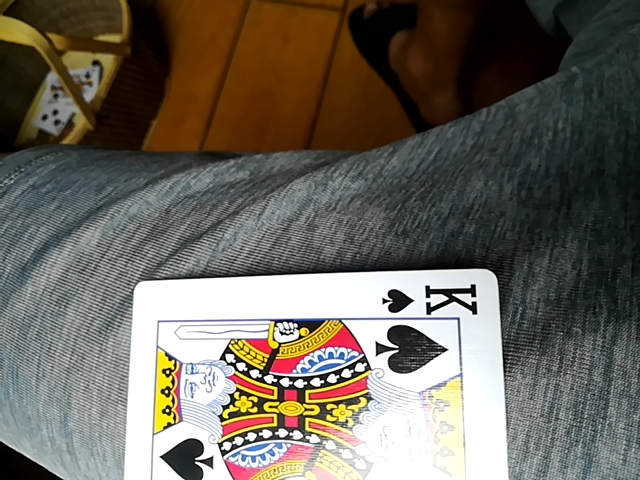ht k: (119, 267, 513, 480)
